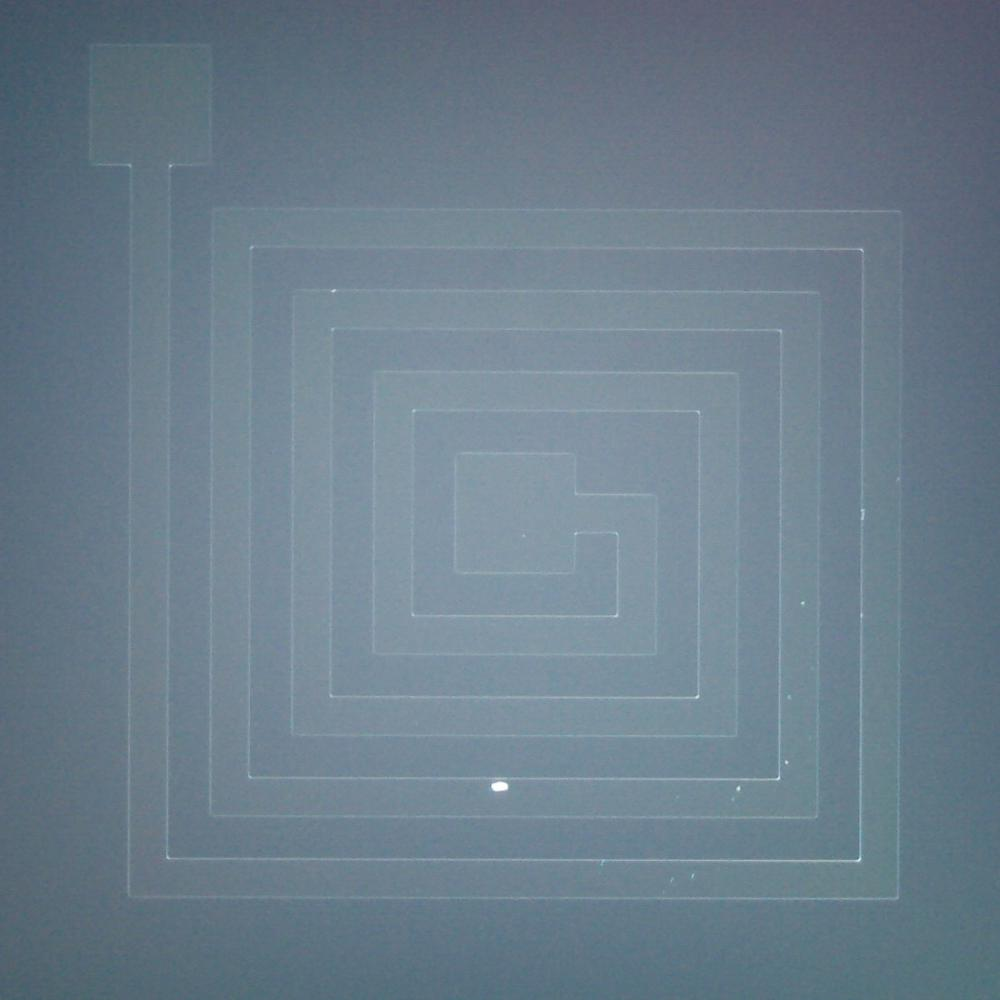dot: (491, 780, 509, 797), (801, 601, 805, 605), (785, 760, 789, 764), (737, 787, 741, 791)
